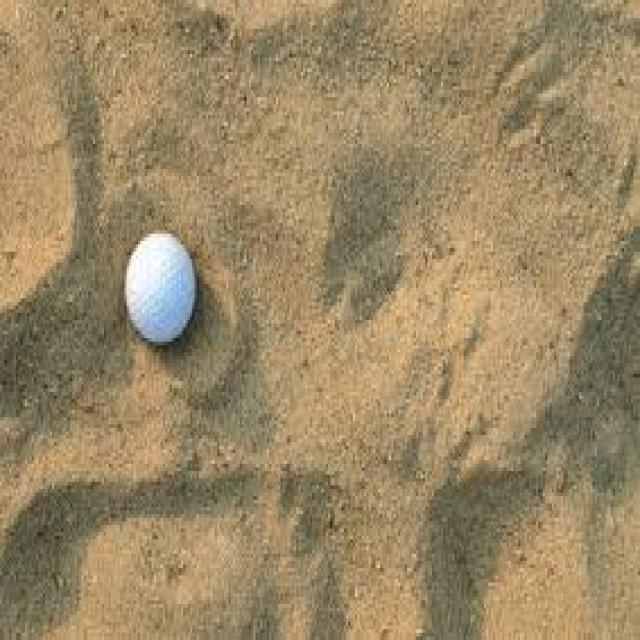golfball: (124, 228, 197, 346)
